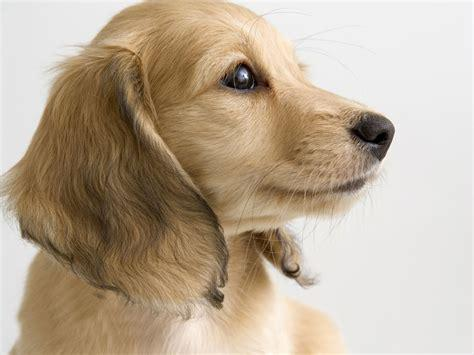dog: (14, 1, 393, 355)
